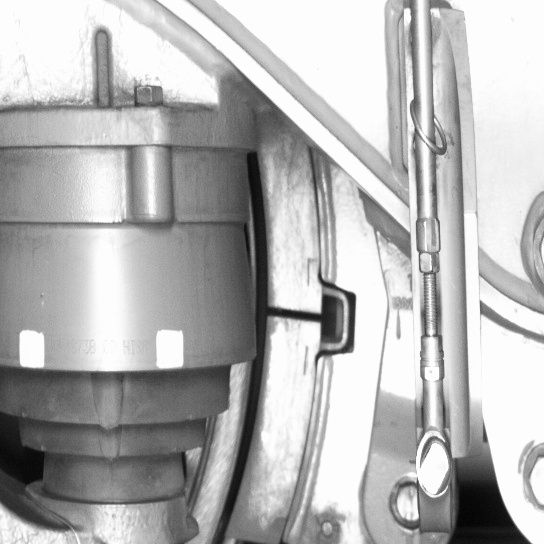KnifeSwitch: (212, 147, 332, 542)
